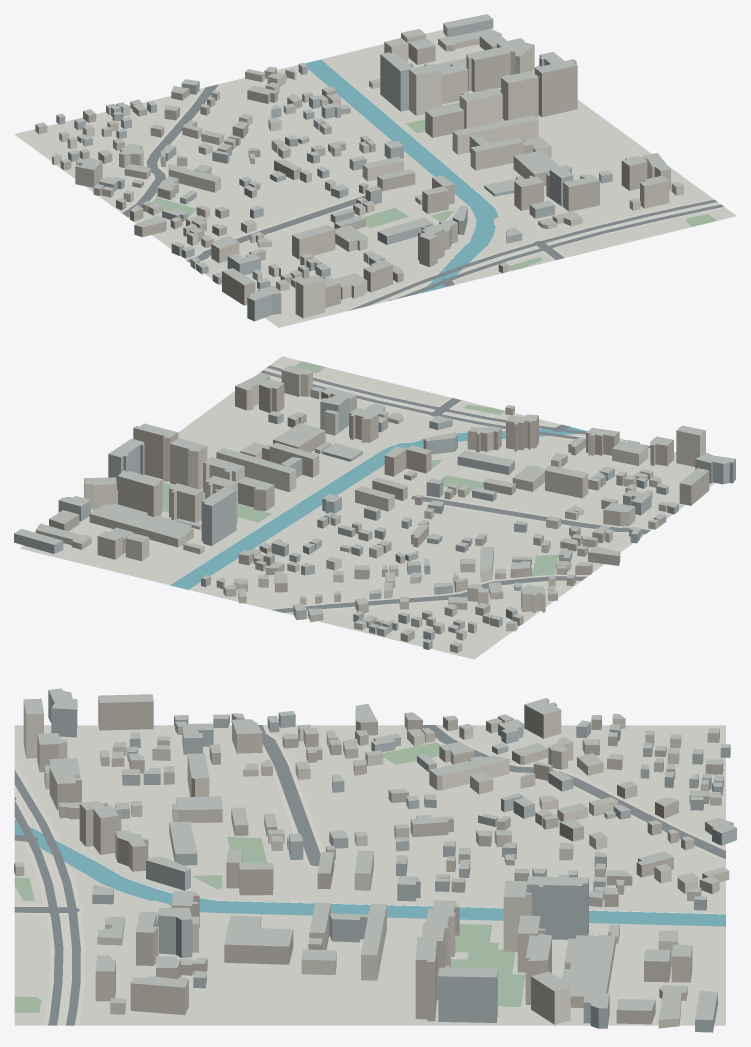
3 renders of one model, top to bottom at view 1: azimuth 30°, elevation 25°; view 2: azimuth 150°, elevation 25°; view 3: azimuth 270°, elevation 25°, orthographic. The views are drawn at different scales.
Parts seen in each view (by area): view 1: city; view 2: city; view 3: city.
Boxes of the visible parts, left/top/right/bottom form: city: left=14, top=14, right=736, bottom=327; city: left=14, top=356, right=736, bottom=659; city: left=14, top=688, right=736, bottom=1032.
Size of the model in its own units: 526 by 46.18 by 508.
